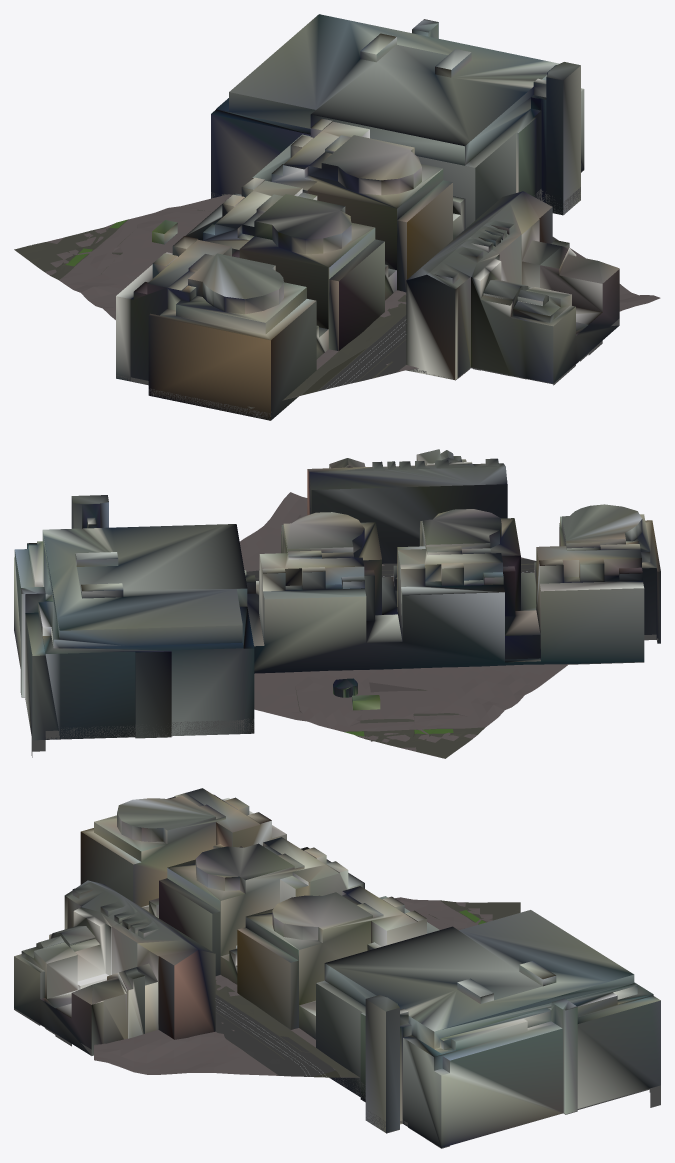
3 renders of one model, top to bottom at view 1: azimuth 30°, elevation 25°; view 2: azimuth 150°, elevation 25°; view 3: azimuth 270°, elevation 25°, orthographic. The views are drawn at different scales.
Parts seen in each view (by area): view 1: c_m09_p00; view 2: c_m09_p00; view 3: c_m09_p00.
Boxes of the visible parts, x1,y1,x2,y2 form: c_m09_p00: (14, 14, 660, 420); c_m09_p00: (14, 449, 660, 758); c_m09_p00: (14, 788, 660, 1148).
Bounding box in the file's own units: 183 × 50.2 × 194.
